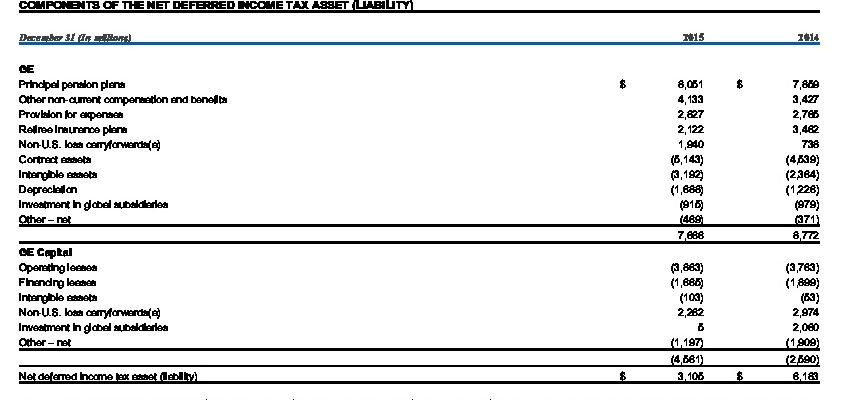table: (0, 0, 843, 400)
